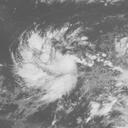cyclone: (9, 23, 78, 105)
